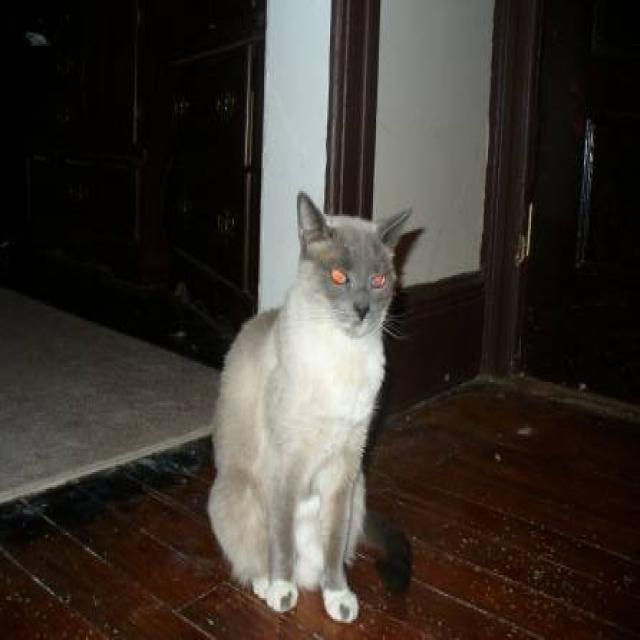cat: (205, 189, 422, 623)
